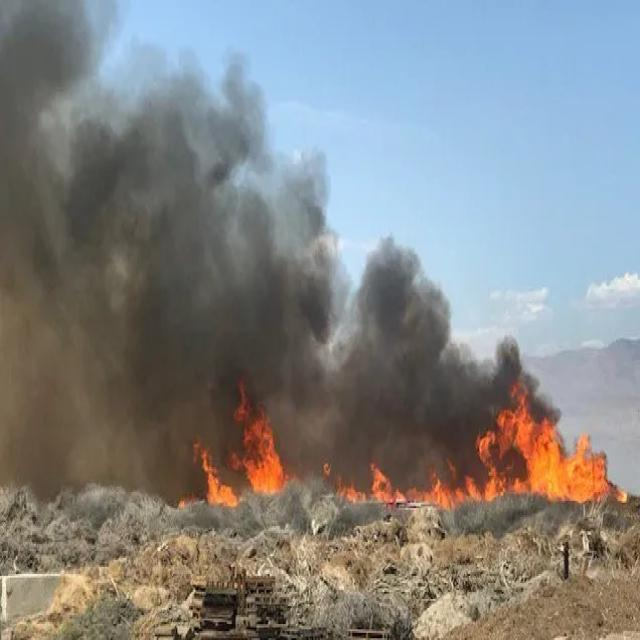Fire: (481, 379, 617, 514), (199, 377, 288, 515), (337, 462, 480, 514)
Smoke: (1, 14, 477, 512)
